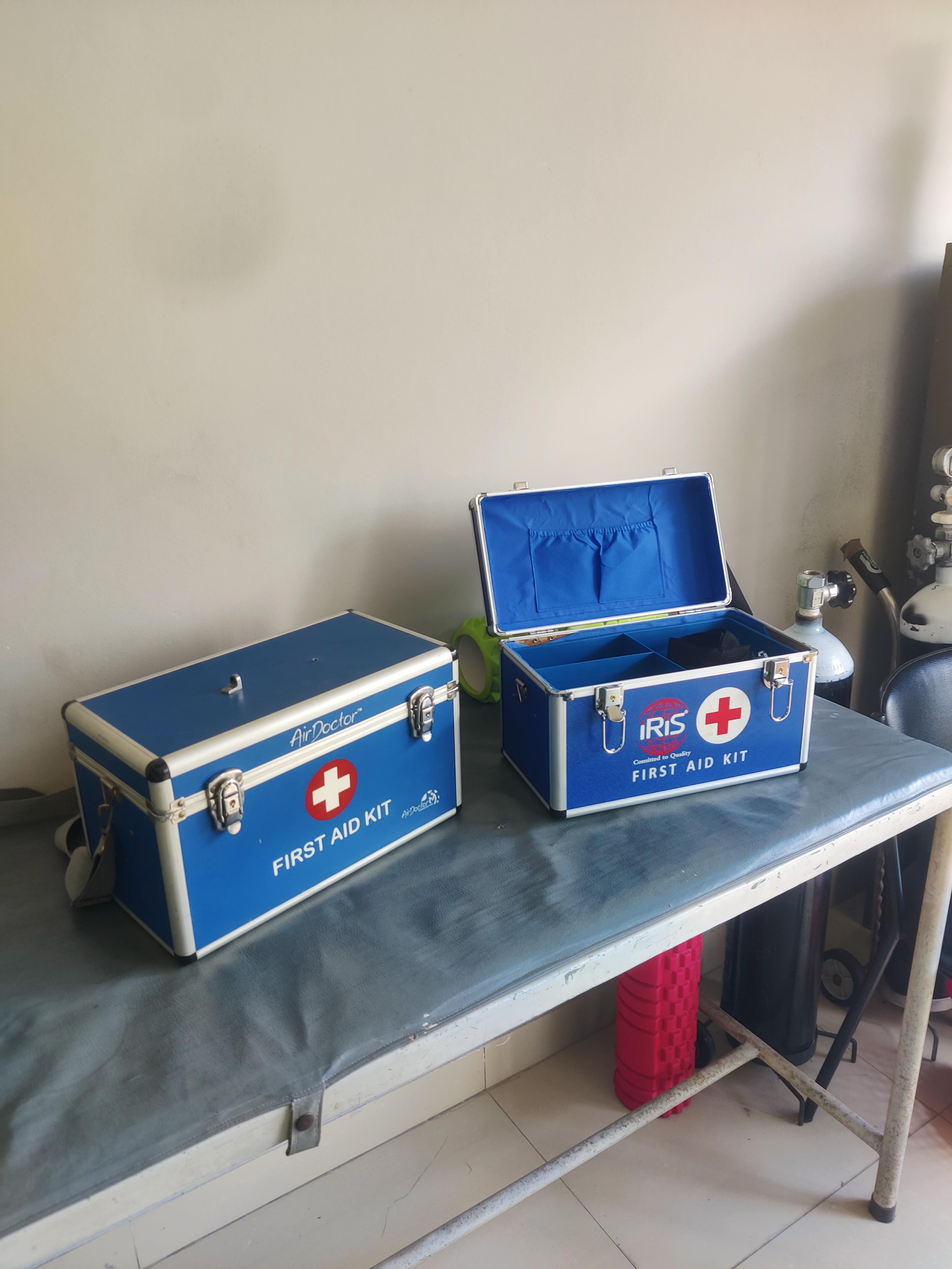FirstAidBox: (43, 601, 470, 973), (465, 453, 852, 814)
